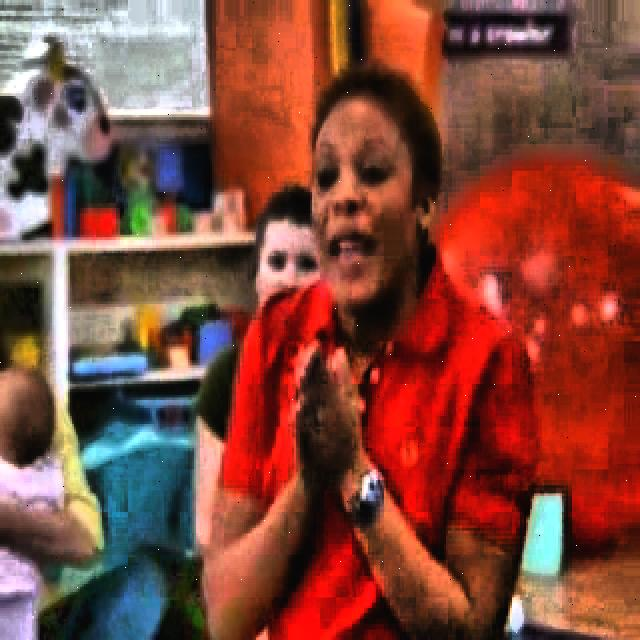F: (215, 73, 493, 640)
